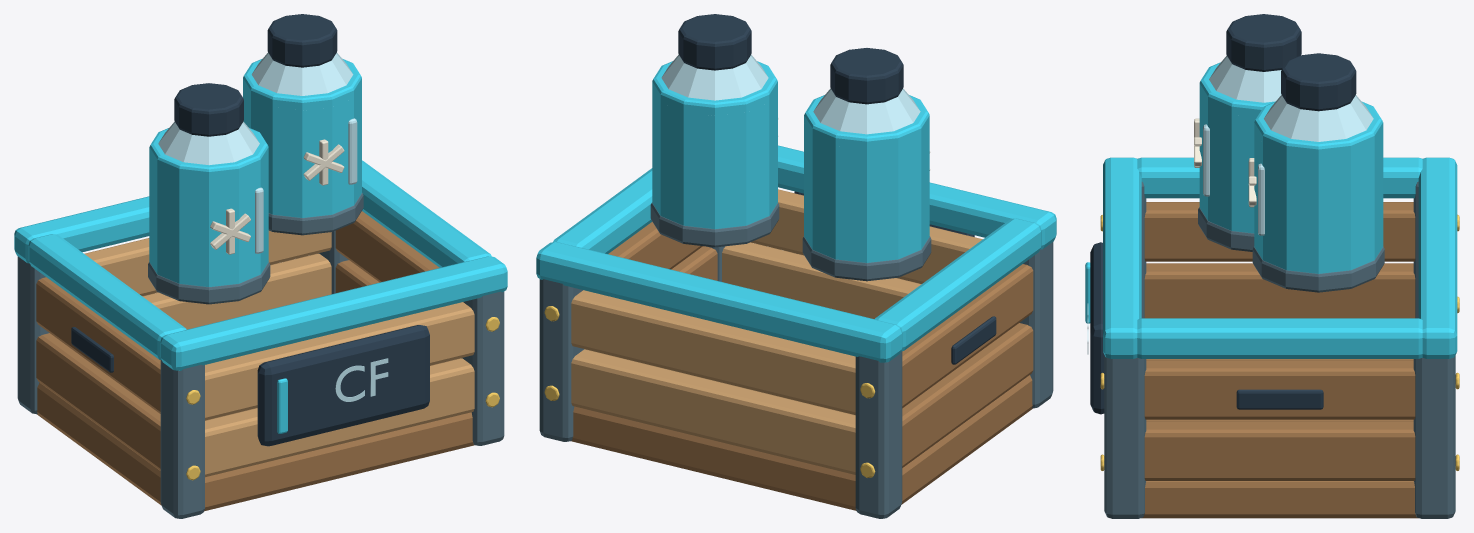
Rendered from cooling_fluid.glb.
3 renders of one model, left to right at view 1: azimuth 30°, elevation 25°; view 2: azimuth 150°, elevation 25°; view 3: azimuth 270°, elevation 25°, orthographic. The views are drawn at different scales.
Parts seen in each view (by area): view 1: Colored rim.016, Side wood plank.016, Horizontal wood plank.016, Front sign.004, Canister foot, Bottle shoulder, Snowflake diagonal A, Copper rivet.032; view 2: Colored rim.016, Horizontal wood plank.016, Side wood plank.016, Canister foot, Front sign.004, Bottle shoulder, Copper rivet.032; view 3: Side wood plank.016, Colored rim.016, Canister foot, Front sign.004, Bottle shoulder, Snowflake diagonal A, Copper rivet.032.
Boxes of the visible parts, x1,y1,x2,y2 form: Colored rim.016: (14,58,507,433); Side wood plank.016: (36,211,474,511); Horizontal wood plank.016: (84,230,474,477); Front sign.004: (71,14,429,446); Canister foot: (17,193,504,518); Bottle shoulder: (158,52,388,401); Snowflake diagonal A: (210,139,344,254); Copper rivet.032: (186,317,499,480); Colored rim.016: (536,61,1056,362); Horizontal wood plank.016: (571,189,982,474); Side wood plank.016: (571,222,1033,510); Canister foot: (539,202,1053,518); Front sign.004: (678,14,996,364); Bottle shoulder: (661,54,920,134); Copper rivet.032: (544,306,875,477); Side wood plank.016: (1141,202,1418,518); Colored rim.016: (1085,62,1457,358); Canister foot: (1104,181,1455,518); Front sign.004: (1090,14,1356,414); Bottle shoulder: (1087,55,1373,354); Snowflake diagonal A: (1194,118,1256,207); Copper rivet.032: (1100,214,1459,470).
Size of the model in its own units: 1.32 by 1.37 by 1.16.
